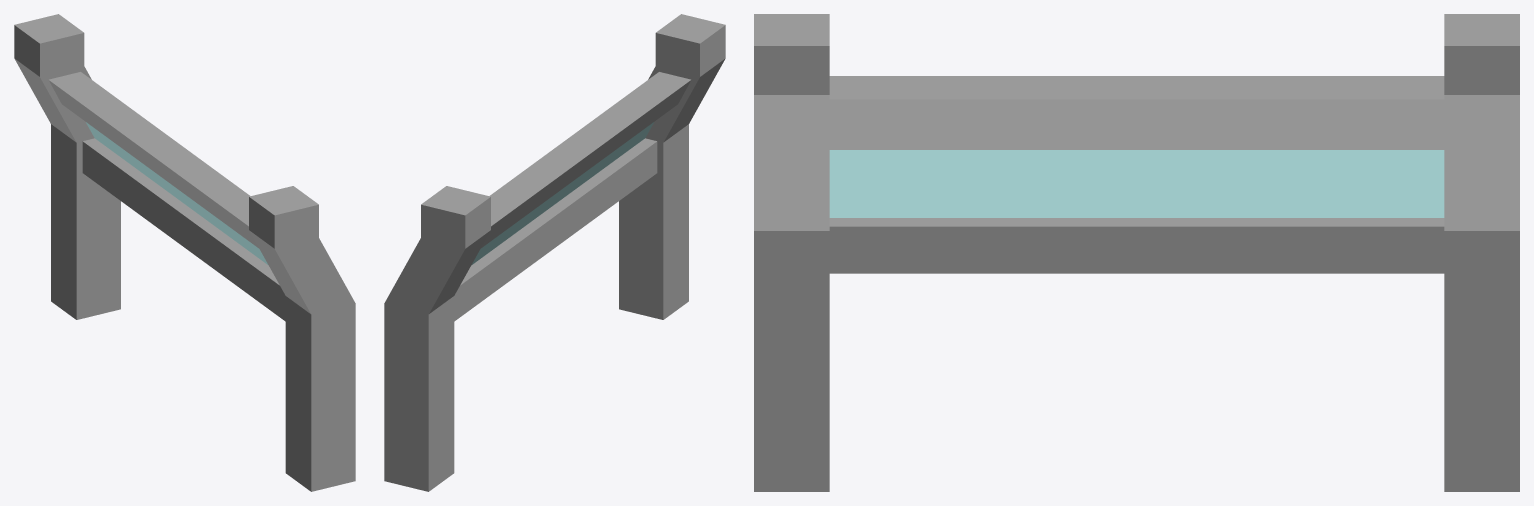
Rendered from sensin_komono2.fbx.
The picture shows the model from 3 angles, left to right: view 1: azimuth 30°, elevation 25°; view 2: azimuth 150°, elevation 25°; view 3: azimuth 270°, elevation 25°; orthographic projection. The views are drawn at different scales.
Visible parts, largest first — view 1: pCube2, pCube1, pCube4, pCube3, pCube5; view 2: pCube1, pCube2, pCube4, pCube3, pCube5; view 3: pCube4, pCube5, pCube1, pCube2, pCube3.
Boxes of the visible parts, left/top/right/bottom form: pCube2: left=249, top=186, right=355, bottom=491; pCube1: left=14, top=14, right=120, bottom=319; pCube4: left=48, top=72, right=258, bottom=248; pCube3: left=82, top=138, right=285, bottom=321; pCube5: left=86, top=122, right=268, bottom=265; pCube1: left=384, top=186, right=490, bottom=491; pCube2: left=619, top=14, right=725, bottom=319; pCube4: left=481, top=72, right=691, bottom=248; pCube3: left=454, top=138, right=657, bottom=321; pCube5: left=471, top=122, right=653, bottom=265; pCube4: left=829, top=76, right=1444, bottom=149; pCube5: left=829, top=150, right=1444, bottom=217; pCube1: left=1444, top=14, right=1519, bottom=491; pCube2: left=754, top=14, right=829, bottom=491; pCube3: left=829, top=218, right=1444, bottom=273.
Size of the model in its own units: 53.89 by 181 by 299.
